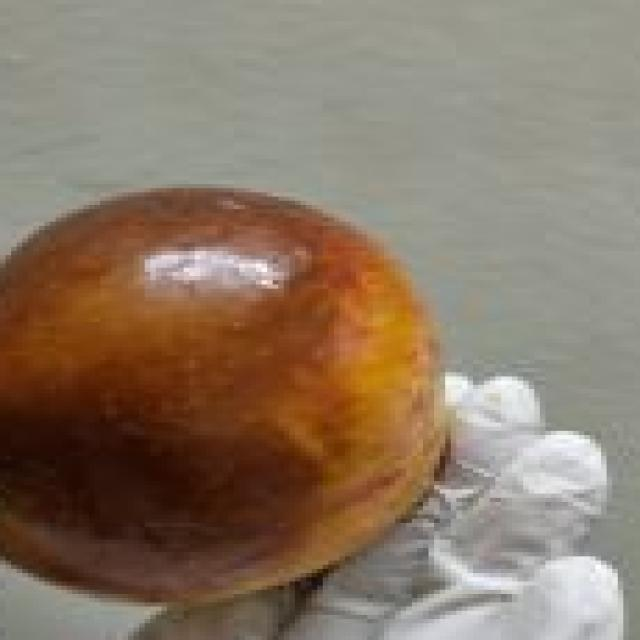Bad_Apple 0-1 day: (0, 188, 445, 601)
